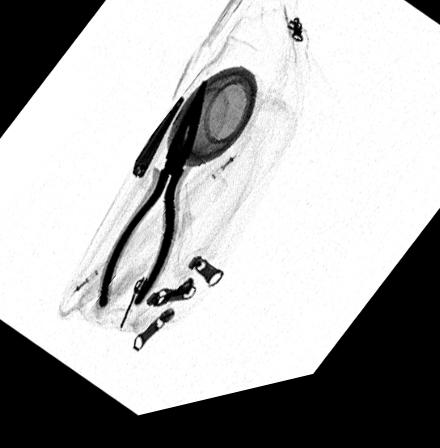Pliers: (94, 88, 207, 314)
